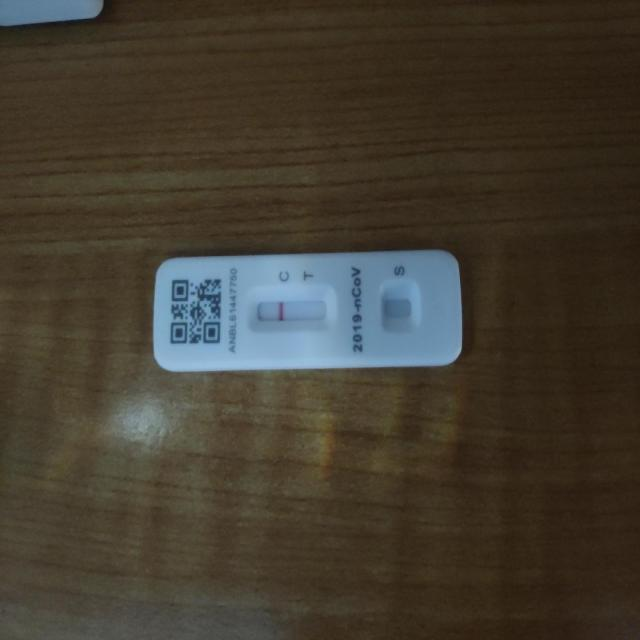qr_code: (171, 279, 222, 344)
